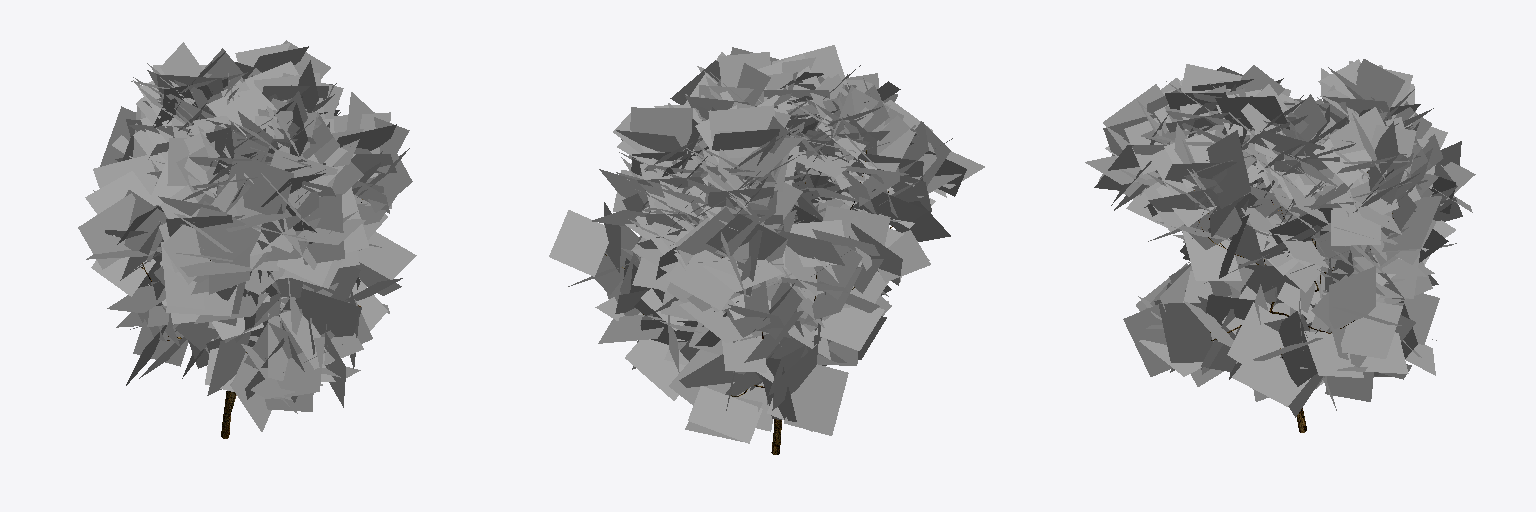
3 renders of one model, left to right at view 1: azimuth 30°, elevation 25°; view 2: azimuth 150°, elevation 25°; view 3: azimuth 270°, elevation 25°, orthographic.
Parts seen in each view (by area): view 1: leaves.002; view 2: leaves.002; view 3: leaves.002.
Part boxes in pixels (left/top/right/bottom): leaves.002: left=78, top=40, right=416, bottom=431; leaves.002: left=549, top=45, right=984, bottom=443; leaves.002: left=1085, top=59, right=1475, bottom=417.
Size of the model in its own units: 10.19 by 10.8 by 10.35.
2 materials, 1 textured.